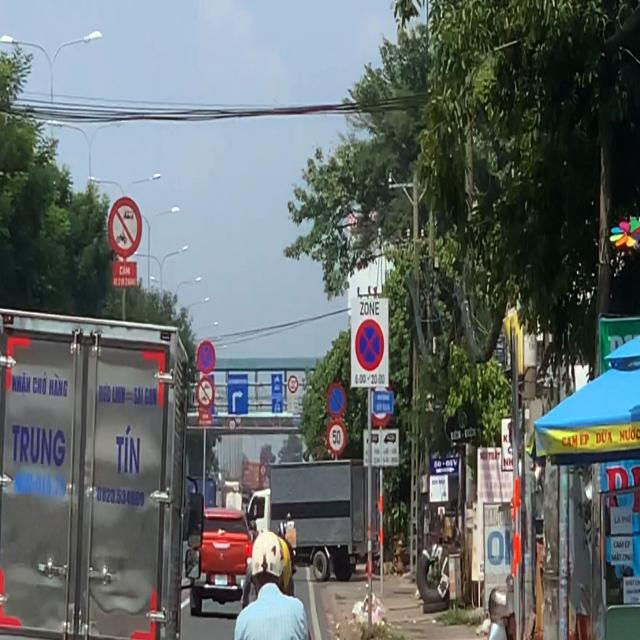Cam do: (326, 382, 347, 419)
Cam dung va do: (355, 319, 384, 371), (198, 341, 215, 374)
Chieu cao toi da: (228, 418, 236, 432)
Toc do toi da: (327, 419, 346, 455)
